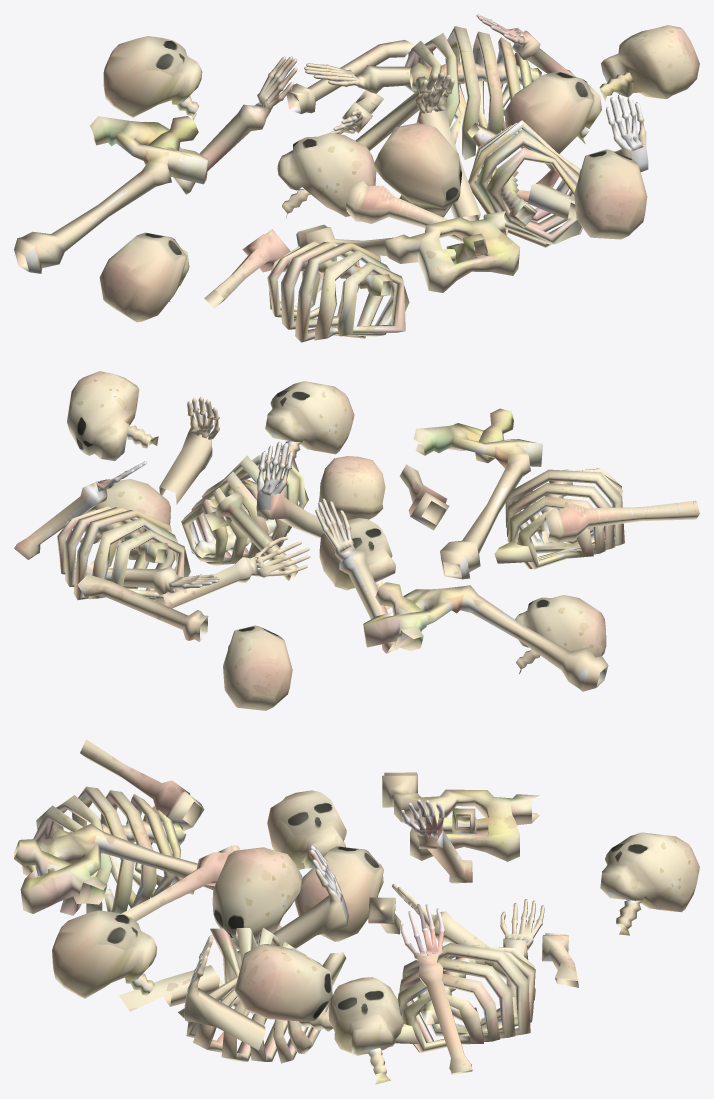
File: KnochenMine.fbx
3 views of the same model, one above another, from view 1: azimuth 30°, elevation 25°; view 2: azimuth 150°, elevation 25°; view 3: azimuth 270°, elevation 25° (orthographic). The views are drawn at different scales.
Parts seen in each view (by area): view 1: Cube.014; view 2: Cube.014; view 3: Cube.014.
Boxes of the visible parts, x1,y1,x2,y2 form: Cube.014: [14, 14, 699, 342]; Cube.014: [14, 371, 699, 710]; Cube.014: [14, 739, 699, 1084].
Size of the model in its own units: 405 by 112 by 366.
